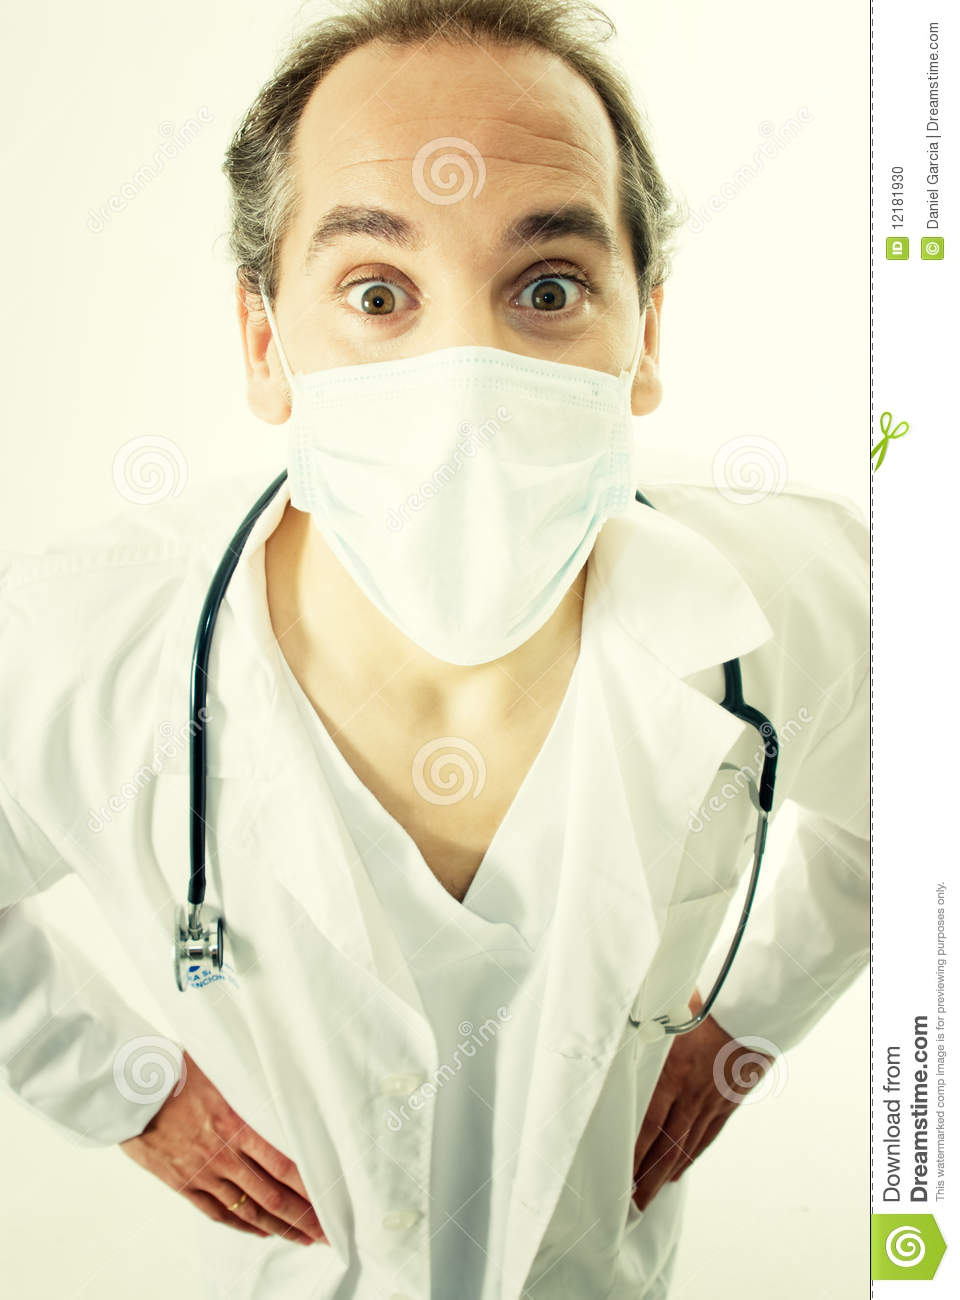mask: (291, 340, 639, 674)
